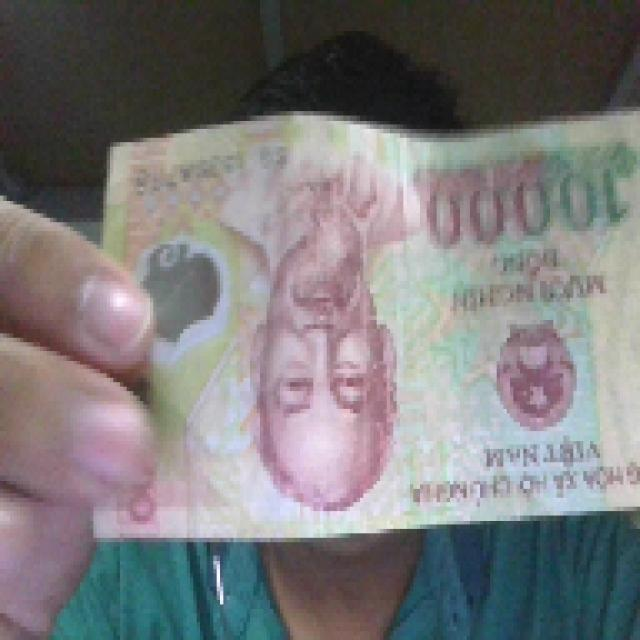10 000 VND: (86, 98, 636, 542)
